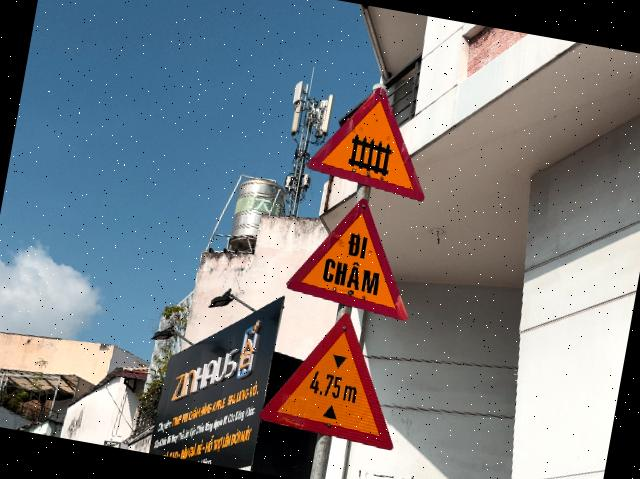chieu-cao-tinh-khong-thuc-te: (256, 299, 416, 452)
di-cham: (282, 186, 428, 321)
noi-giao-nhau-voi-duong-sat-co-rao-chan: (304, 75, 442, 202)
